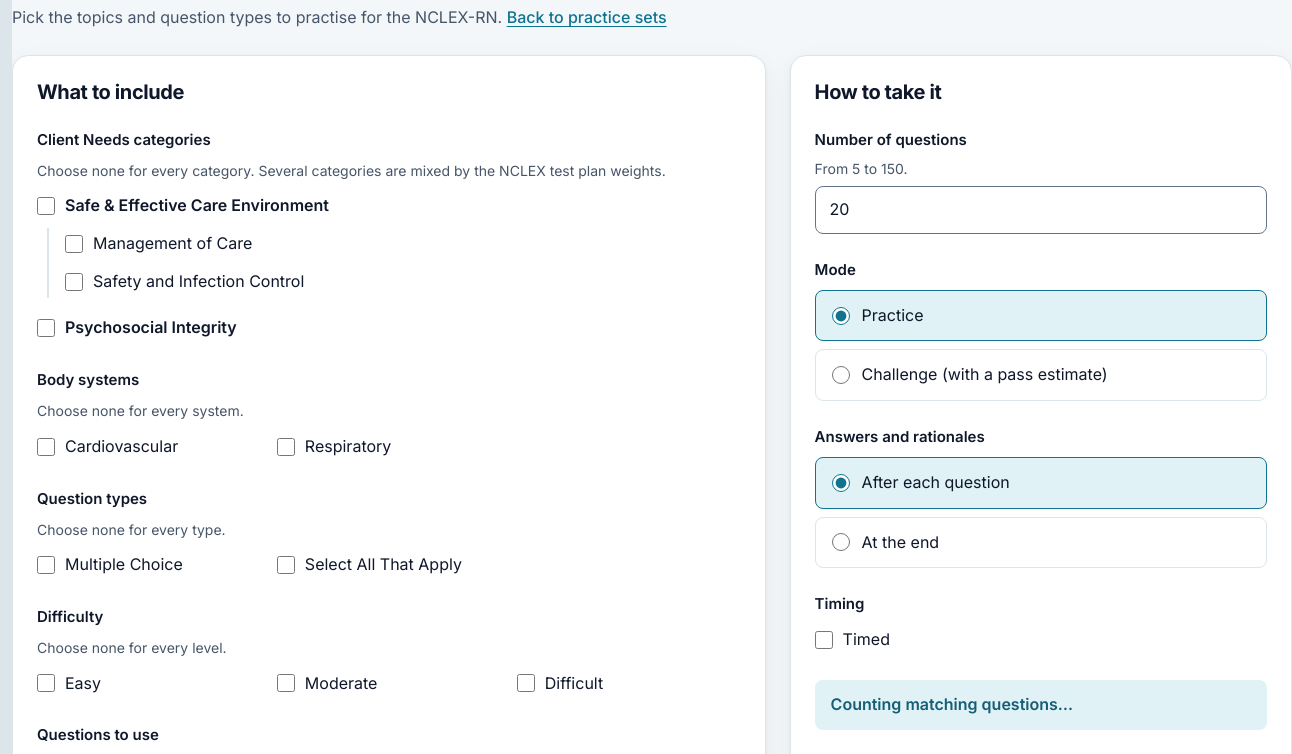
CustomBuilder › explains a timed test without a timer before sending anything
This screenshot has width=1292, height=754.
Check: the checkbox labelled "Management of Care" is shown, box left=65, top=235, right=83, bottom=253
Click the checkbox labelled "Timed": (824, 640) left=815, top=631, right=833, bottom=649
(page scrolled)
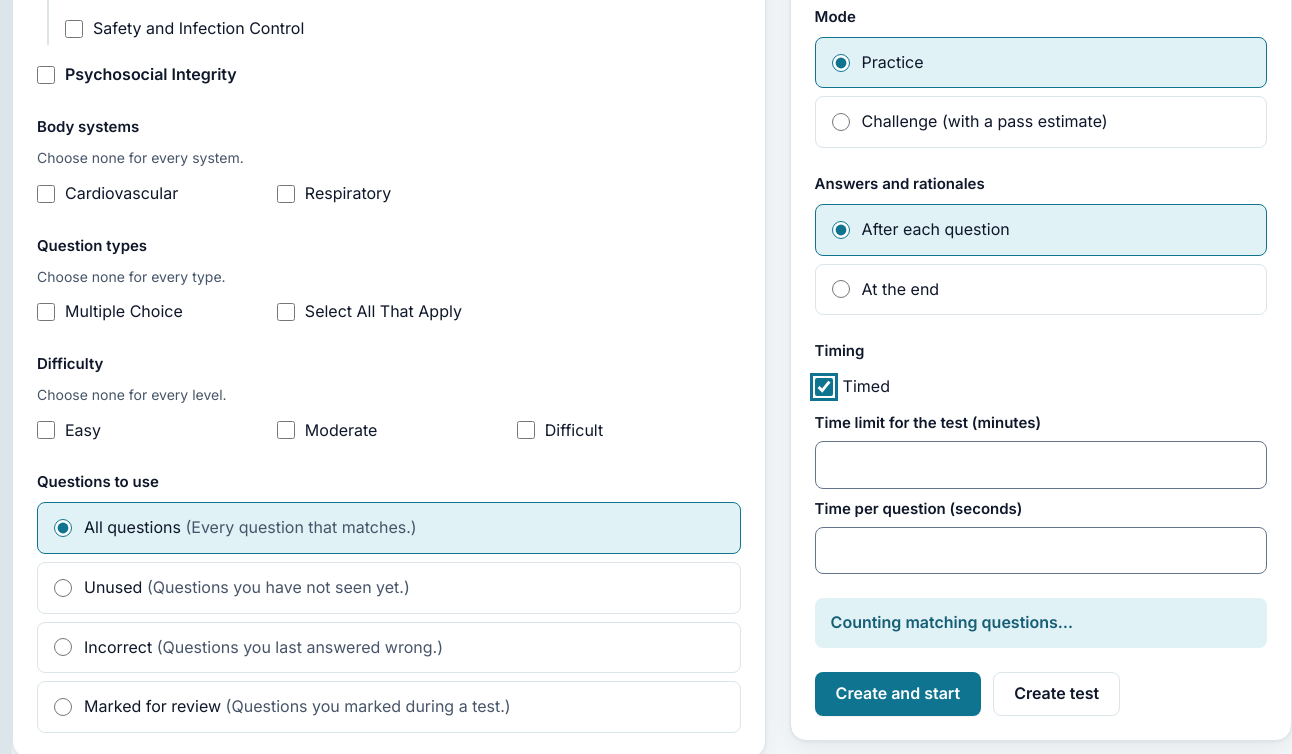
Click the button "Create test": (1057, 694) left=993, top=672, right=1120, bottom=716
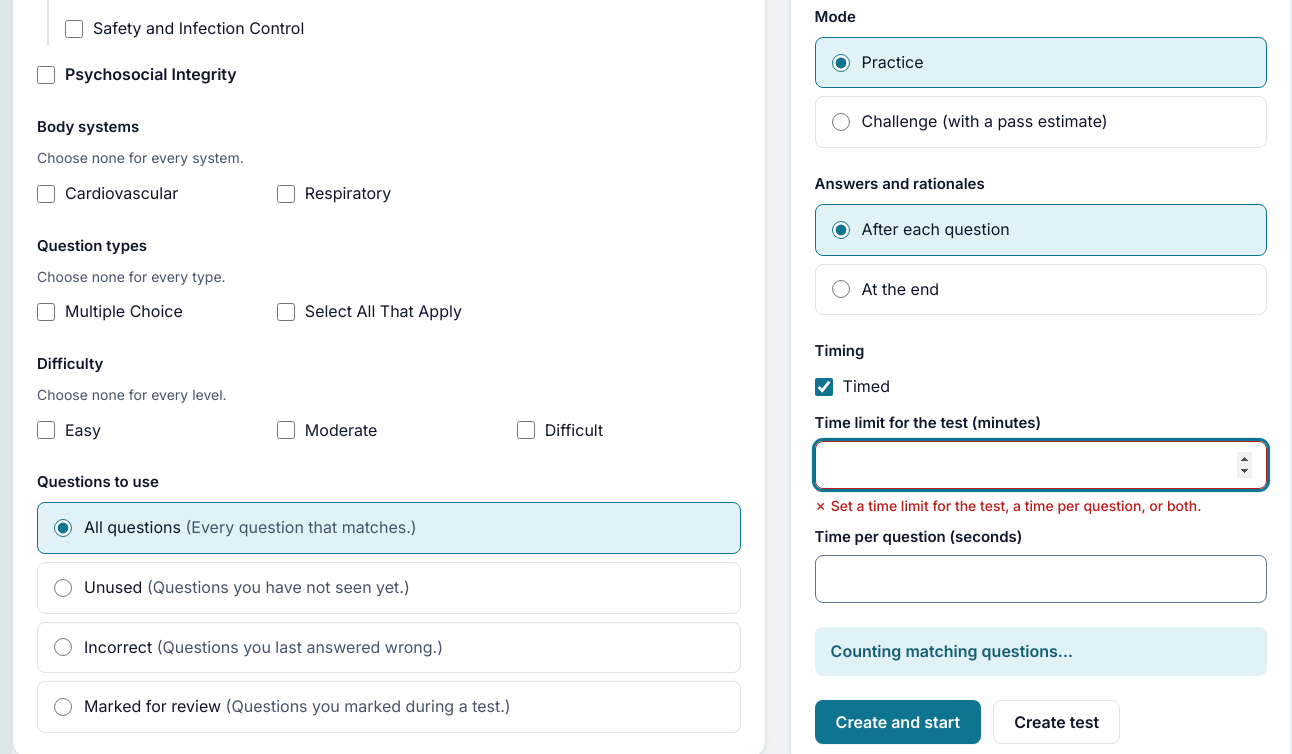
Check: the text "Set a time limit for the test, a time per question, or both." is shown, box left=831, top=497, right=1201, bottom=514
